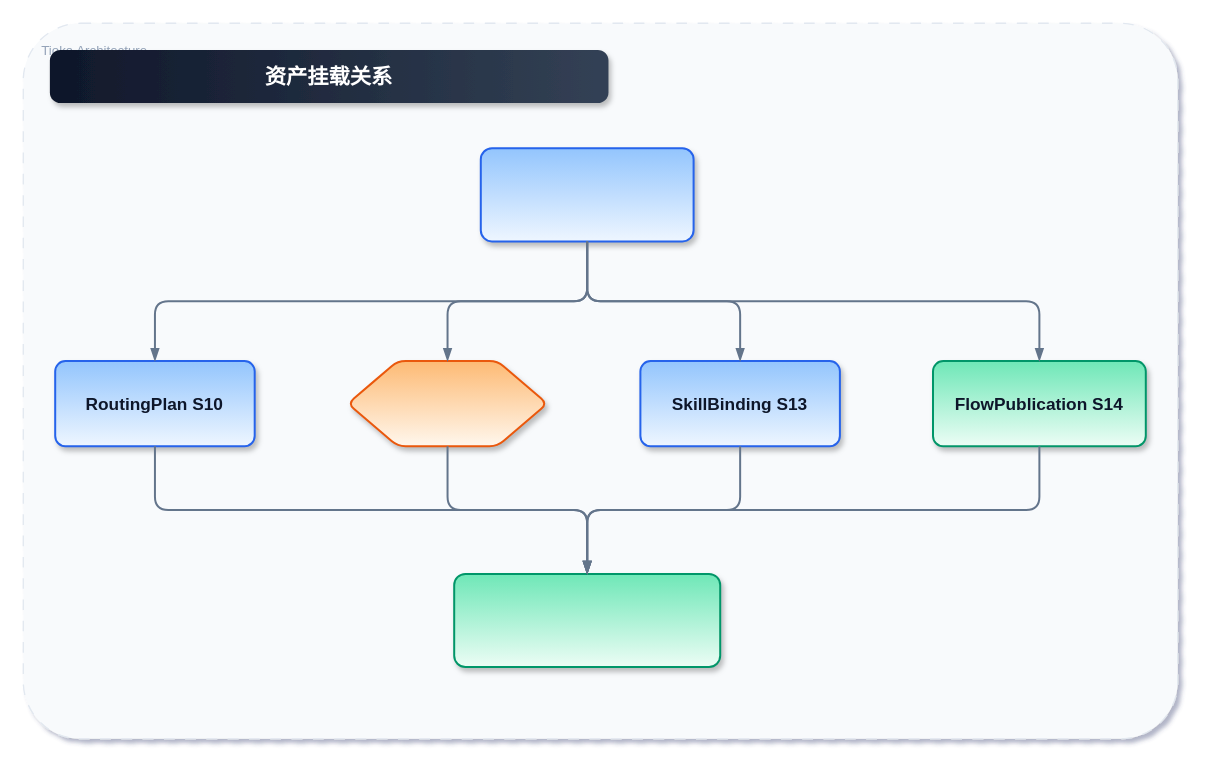
This 1209x770 diagram has some shape labels left out. Each missing label, with the centre of its shape:
Agent S11: [588,196]
McpGrant S12: [448,405]
Runtime S1 只读已发布快照: [588,622]
